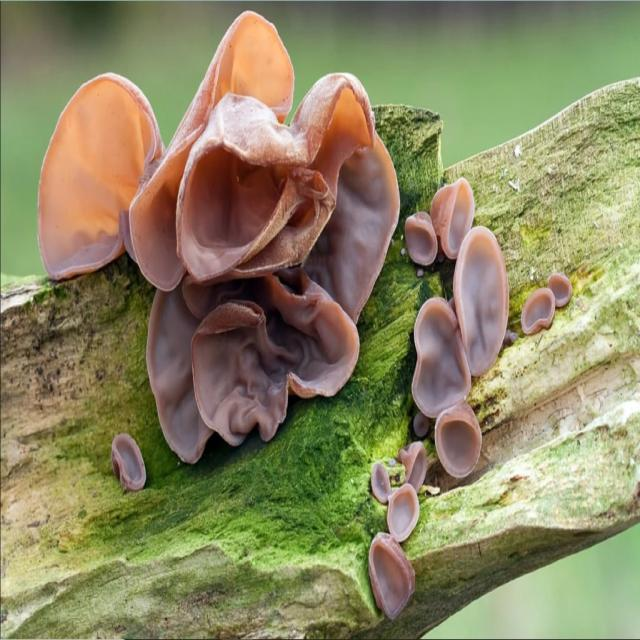Fase Muda: (39, 46, 392, 426), (406, 185, 572, 492), (366, 454, 426, 632), (104, 435, 156, 505)
